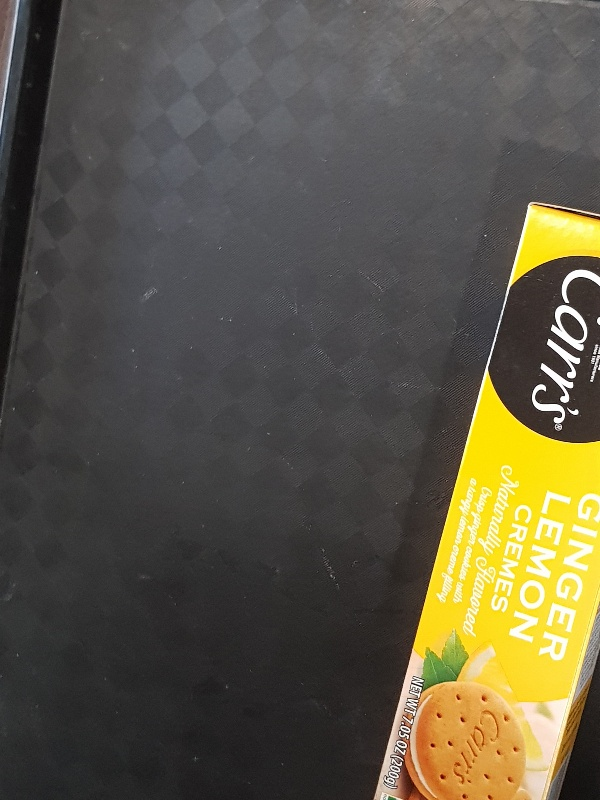Carr's Ginger Lemon Cremes: (374, 201, 599, 800)
